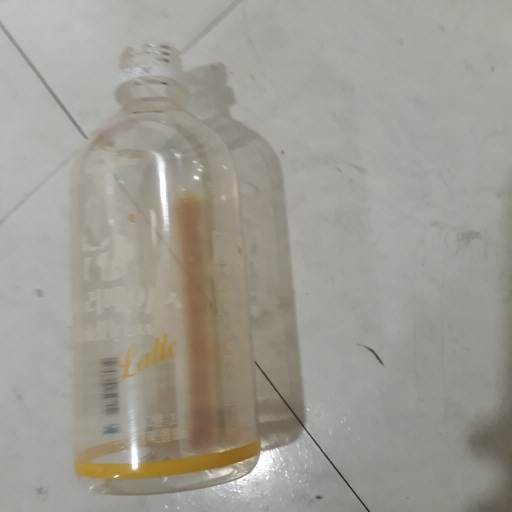Plastic_0: (71, 39, 265, 495)
